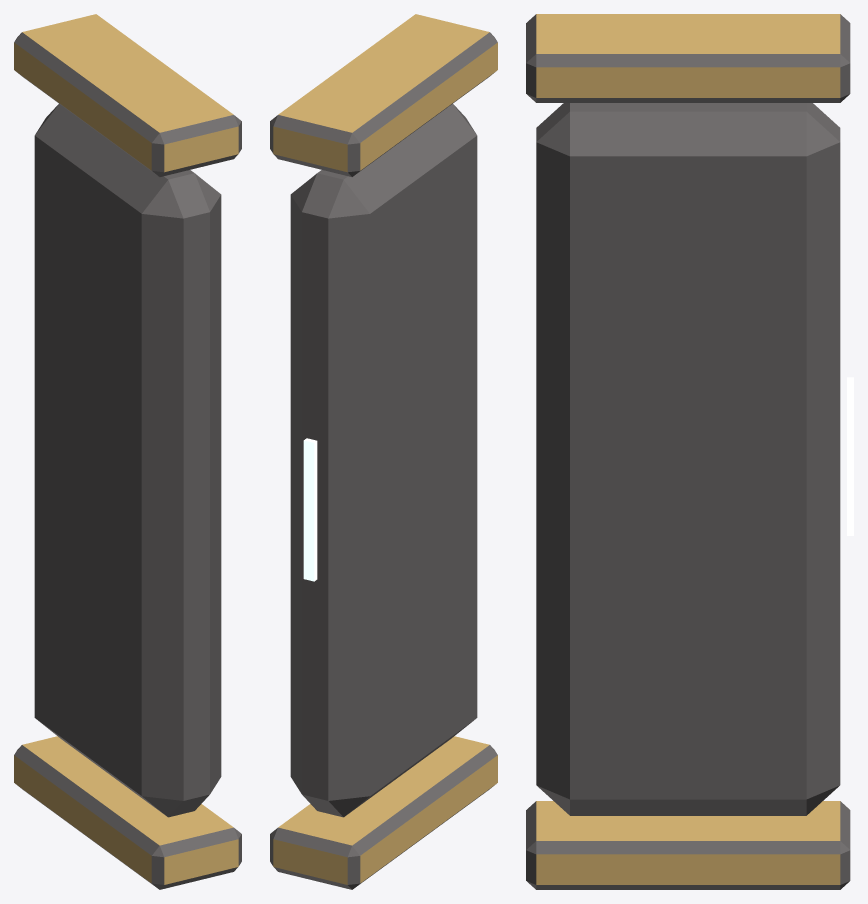
The model's file is CO_EndR.fbx.
3 views of the same model, side by side, from view 1: azimuth 30°, elevation 25°; view 2: azimuth 150°, elevation 25°; view 3: azimuth 270°, elevation 25° (orthographic). The views are drawn at different scales.
Parts seen in each view (by area): view 1: CO_EndR; view 2: CO_EndR; view 3: CO_EndR.
Boxes of the visible parts, bbox=[...] form: CO_EndR: bbox=[14, 14, 241, 889]; CO_EndR: bbox=[270, 14, 497, 889]; CO_EndR: bbox=[526, 14, 853, 889].
Bounding box in the file's own units: 0.34 × 2.73 × 0.97.
